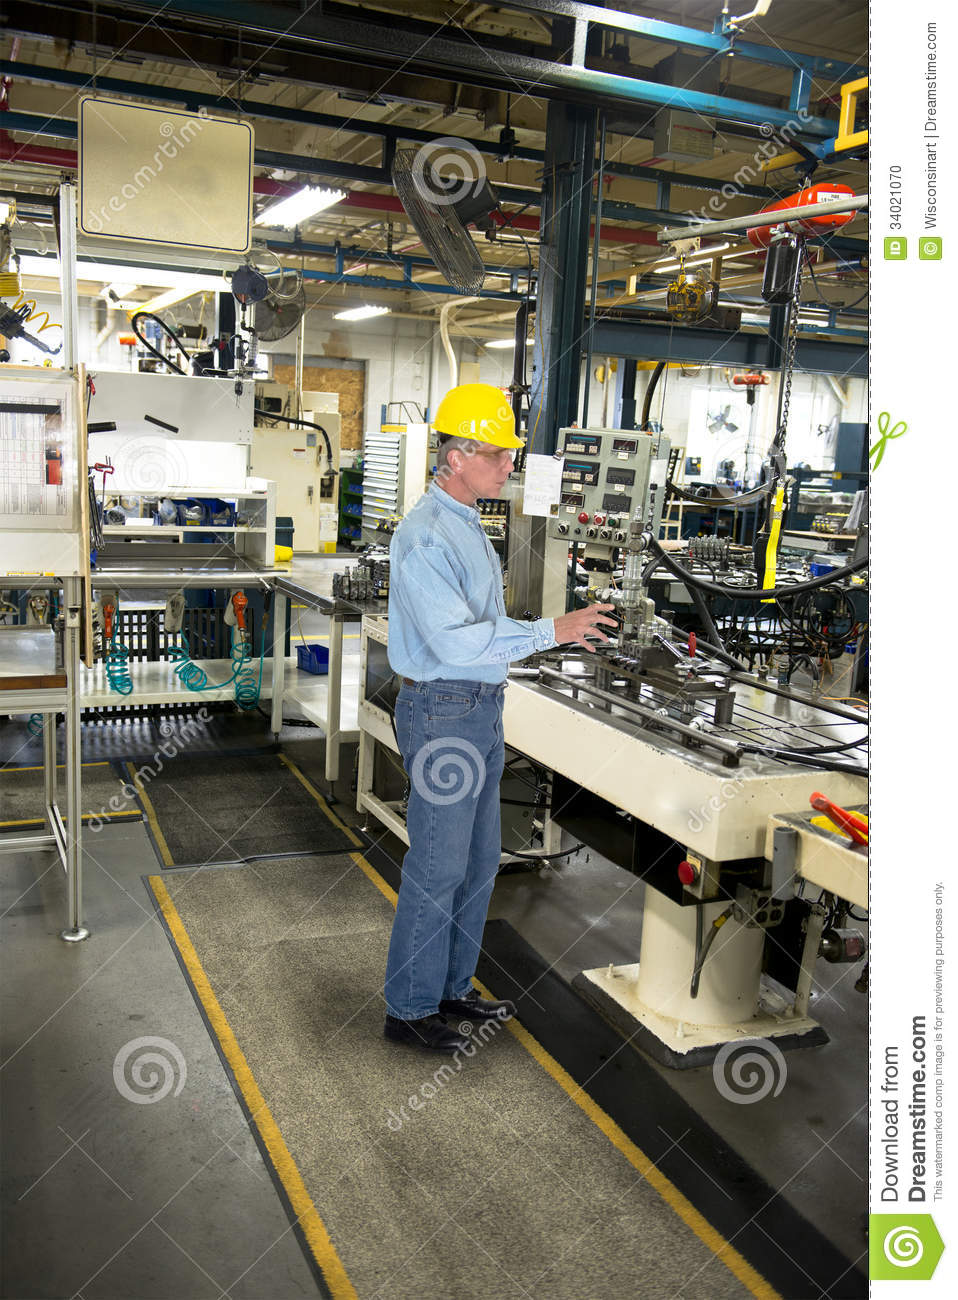person: (386, 381, 618, 1044)
